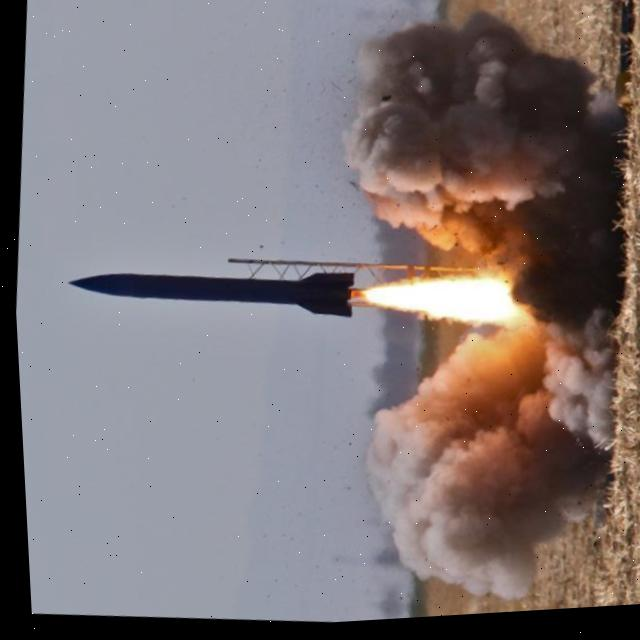missile: (60, 246, 354, 334)
